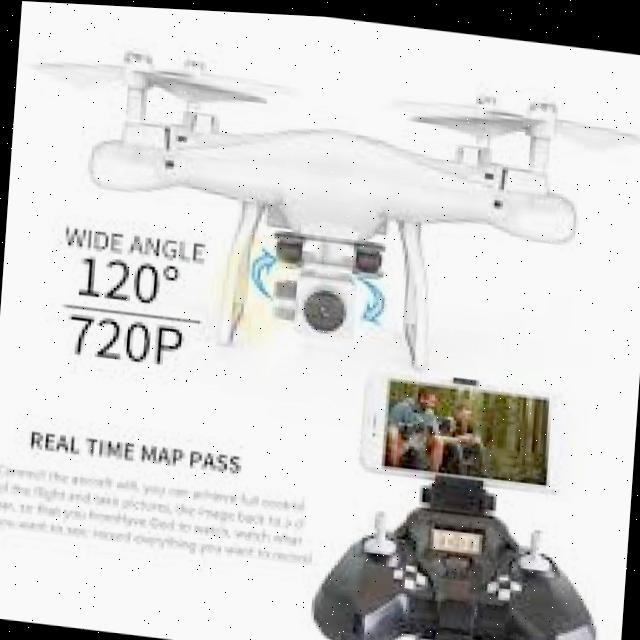drone: (12, 22, 624, 395)
